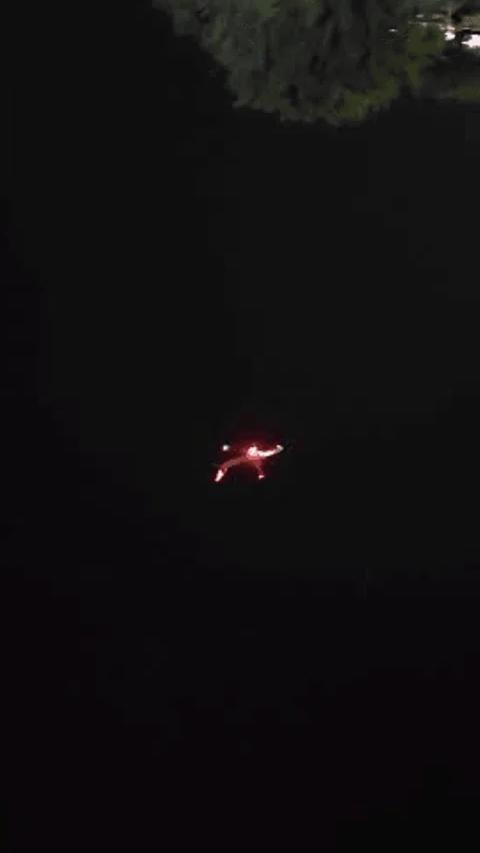Plane: (186, 388, 310, 518)
